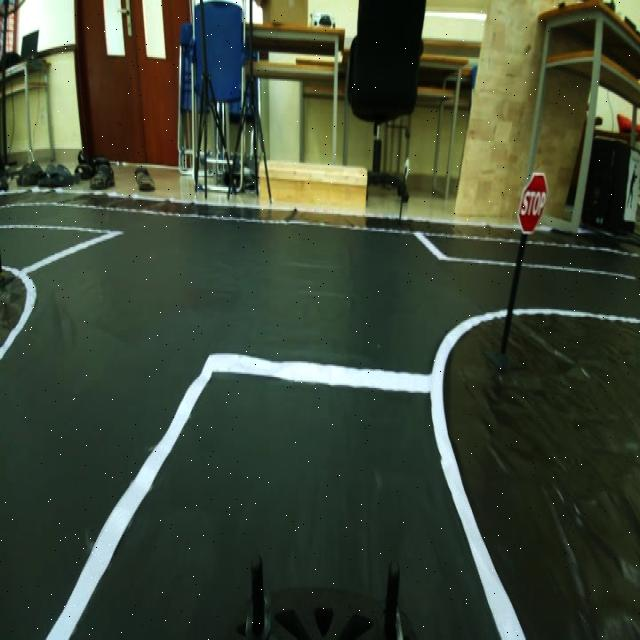stop: (514, 167, 554, 240)
